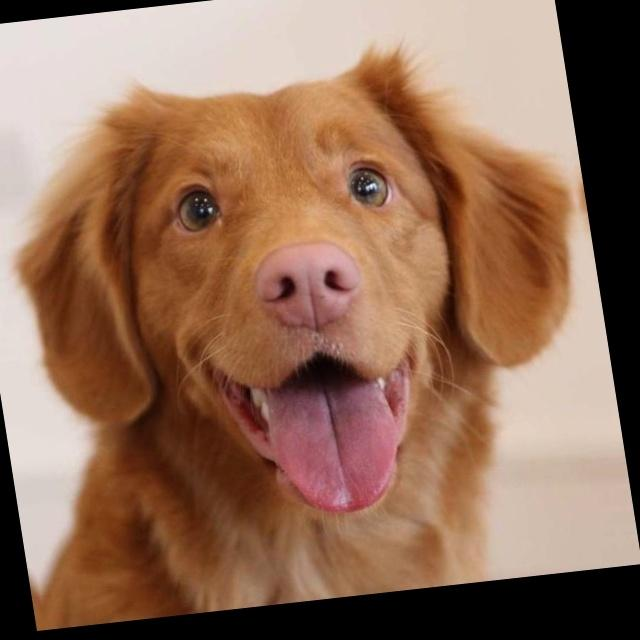dog: (0, 0, 608, 549)
